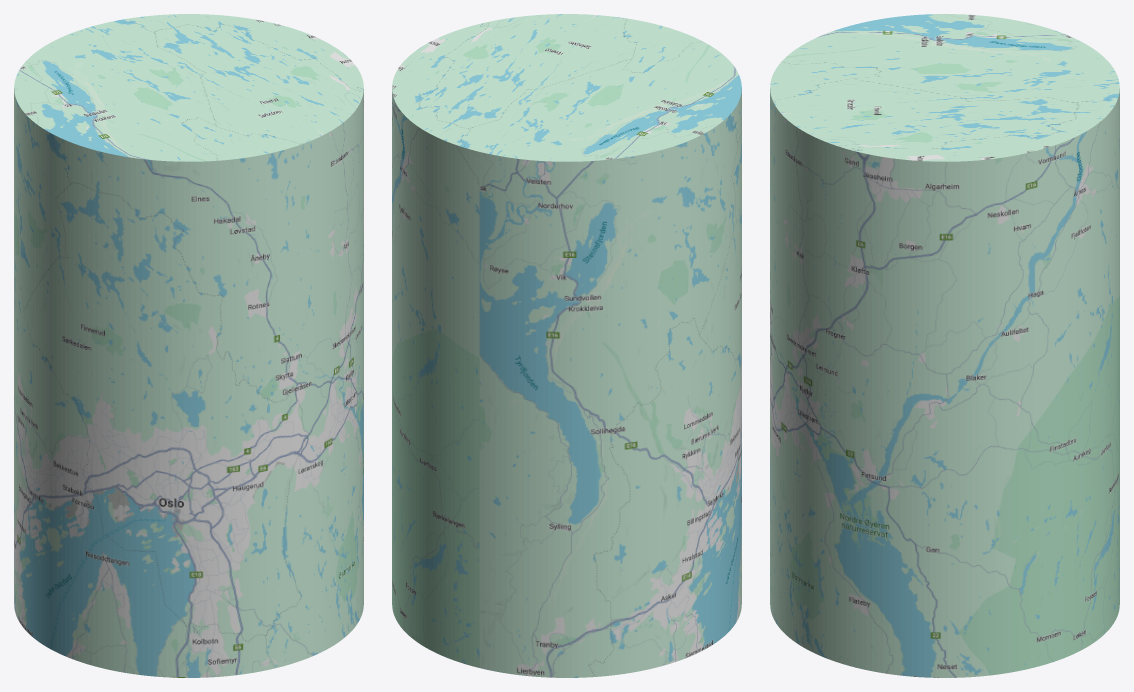
Rendered from RomerikeMap2WrappedCylindrical.glb.
3 views of the same model, side by side, from view 1: azimuth 30°, elevation 25°; view 2: azimuth 150°, elevation 25°; view 3: azimuth 270°, elevation 25° (orthographic).
Parts seen in each view (by area): view 1: Cylinder; view 2: Cylinder; view 3: Cylinder.
Boxes of the visible parts, box(x1,y1,x2,y2) form: Cylinder: box(14, 14, 363, 677); Cylinder: box(392, 14, 741, 677); Cylinder: box(770, 14, 1119, 677).
Bounding box in the file's own units: 8.82 × 14.37 × 8.82.
1 material, 1 textured.
